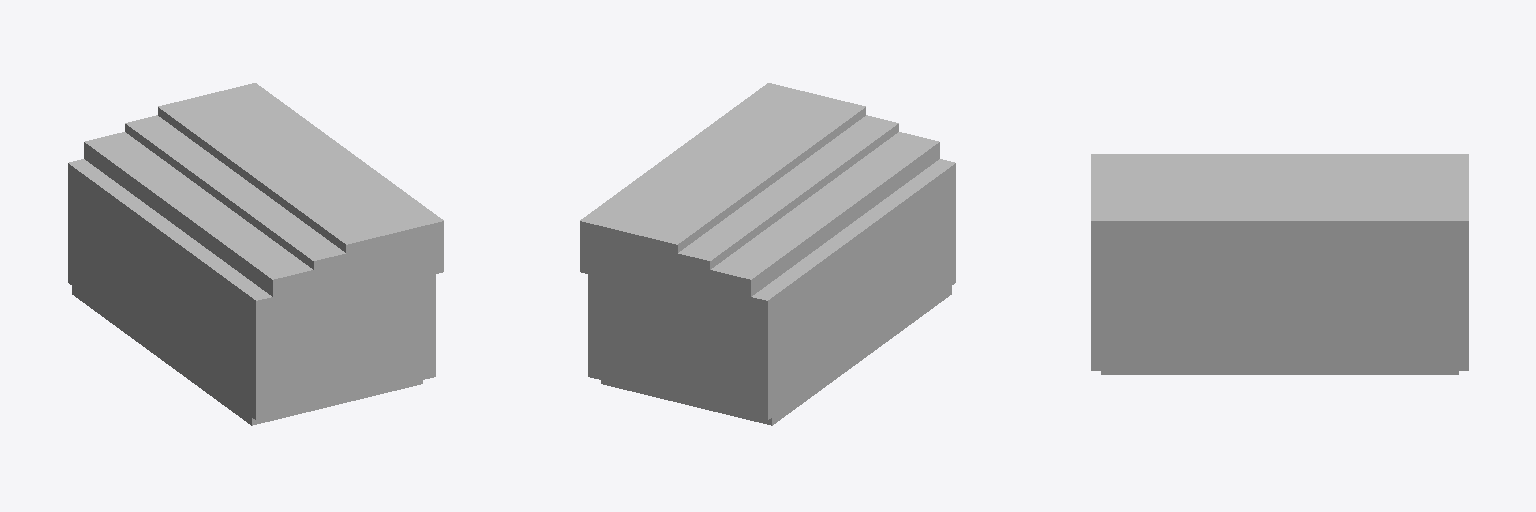
The model's file is container.obj.
3 views of the same model, side by side, from view 1: azimuth 30°, elevation 25°; view 2: azimuth 150°, elevation 25°; view 3: azimuth 270°, elevation 25° (orthographic).
Parts seen in each view (by area): view 1: object 1; view 2: object 1; view 3: object 1.
Boxes of the visible parts, x1=… form: object 1: x1=68, y1=83, x2=443, y2=425; object 1: x1=580, y1=83, x2=955, y2=425; object 1: x1=1091, y1=154, x2=1468, y2=374.
Size of the model in its own units: 2.3 by 1.9 by 4.